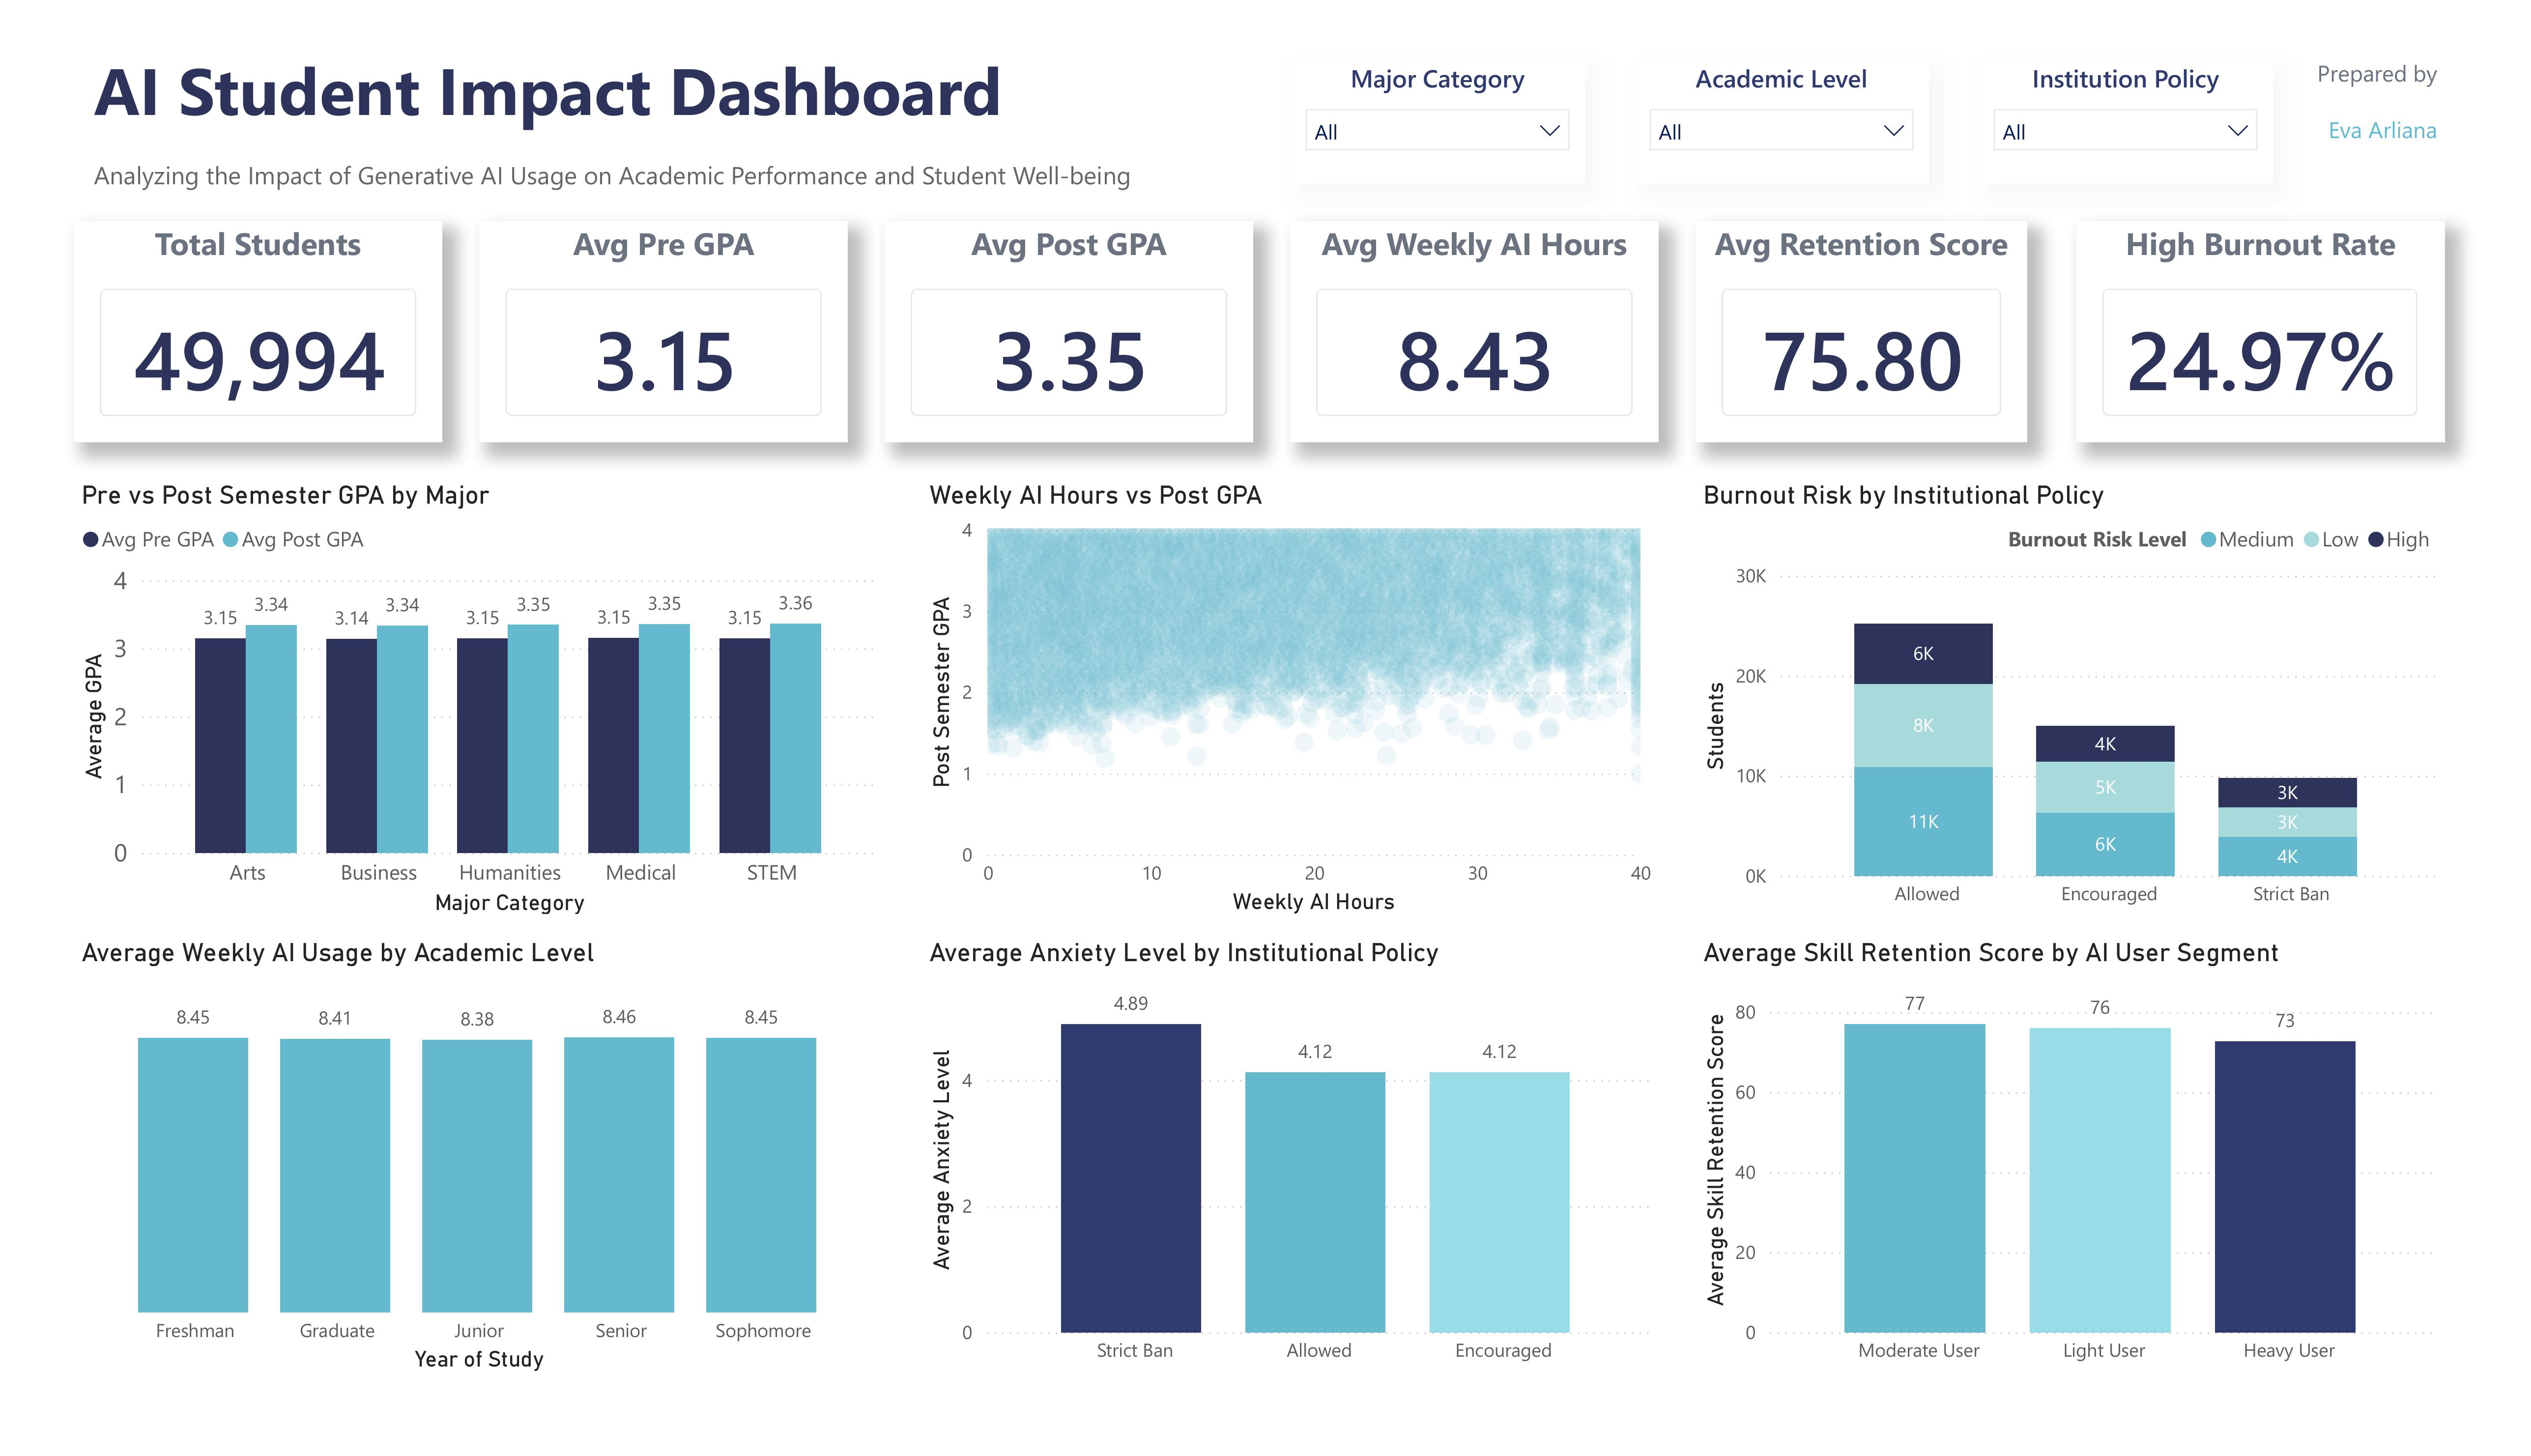

The dashboard page shown, as its layout file describes it:
{"tool":"powerbi","page":{"name":"Page 1","canvas":[1600,900],"ordinal":0},"visuals":[{"type":"textbox","box":[32,0,736,128],"z":0},{"type":"textbox","box":[1424,8,144,88],"z":1000},{"type":"cardVisual","title":"Total Students","fields":{"Data":["Student AI Impact.Total Students"]},"box":[24,120,240,144],"z":2000},{"type":"cardVisual","title":"Avg Pre GPA","fields":{"Data":["Student AI Impact.Avg Pre GPA"]},"box":[288,120,240,144],"z":3000},{"type":"cardVisual","title":"Avg Post GPA","fields":{"Data":["Student AI Impact.Avg Post GPA"]},"box":[552,120,240,144],"z":4000},{"type":"cardVisual","title":"Avg Weekly AI Hours","fields":{"Data":["Student AI Impact.Avg Weekly AI Hours"]},"box":[816,120,240,144],"z":5000},{"type":"cardVisual","title":"Avg Retention Score","fields":{"Data":["Student AI Impact.Avg Skill Retention"]},"box":[1080,120,216,144],"z":6000},{"type":"cardVisual","title":"High Burnout Rate","fields":{"Data":["Student AI Impact.High Burnout %"]},"box":[1328,120,240,144],"z":7000},{"type":"clusteredColumnChart","title":"Pre vs Post Semester GPA by Major","fields":{"Category":["Student AI Impact.Major_Category"],"Y":["Student AI Impact.Avg Pre GPA","Student AI Impact.Avg Post GPA"]},"box":[24,288,528,288],"z":8000},{"type":"scatterChart","title":"Weekly AI Hours vs Post GPA","fields":{"X":["Student AI Impact.Weekly_GenAI_Hours"],"Y":["Student AI Impact.Post_Semester_GPA"]},"box":[576,288,480,288],"z":9000},{"type":"columnChart","title":"Burnout Risk by Institutional Policy","fields":{"Category":["Student AI Impact.Policy_Display"],"Series":["Student AI Impact.Burnout_Risk_Level"],"Y":["Count(Student AI Impact.Student_ID)"]},"box":[1080,288,488,288],"z":10000},{"type":"clusteredColumnChart","title":"Average Weekly AI Usage by Academic Level","fields":{"Category":["Student AI Impact.Year_of_Study"],"Y":["Avg(Student AI Impact.Weekly_GenAI_Hours)"]},"box":[24,586,528,288],"z":11000},{"type":"clusteredColumnChart","title":"Average Anxiety Level by Institutional Policy","fields":{"Category":["Student AI Impact.Policy_Display"],"Y":["Avg(Student AI Impact.Anxiety_Level_During_Exams)"]},"box":[576,586,480,288],"z":12000},{"type":"clusteredColumnChart","title":"Average Skill Retention Score by AI User Segment","fields":{"Category":["Student AI Impact.AI_User_Segment"],"Y":["Avg(Student AI Impact.Skill_Retention_Score)"]},"box":[1080,586,488,288],"z":13000},{"type":"slicer","title":"Major Category","fields":{"Values":["Student AI Impact.Major_Category"]},"box":[816,16,192,80],"z":14000},{"type":"slicer","title":"Academic Level","fields":{"Values":["Student AI Impact.Year_of_Study"]},"box":[1040,16,192,80],"z":15000},{"type":"slicer","title":"Institution Policy","fields":{"Values":["Student AI Impact.Policy_Display"]},"box":[1264,16,192,80],"z":16000}]}

Visuals, with their boxes on the page's 1600x900 design canvas (x1, y1, x2, y2). These are canvas units, not pixel positions in the 2531x1456 screenshot, which may show the page scaled, cropped or inside an application window:
textbox: detection(32, 0, 768, 128)
textbox: detection(1424, 8, 1568, 96)
"Total Students" cardVisual: detection(24, 120, 264, 264)
"Avg Pre GPA" cardVisual: detection(288, 120, 528, 264)
"Avg Post GPA" cardVisual: detection(552, 120, 792, 264)
"Avg Weekly AI Hours" cardVisual: detection(816, 120, 1056, 264)
"Avg Retention Score" cardVisual: detection(1080, 120, 1296, 264)
"High Burnout Rate" cardVisual: detection(1328, 120, 1568, 264)
"Pre vs Post Semester GPA by Major" clusteredColumnChart: detection(24, 288, 552, 576)
"Weekly AI Hours vs Post GPA" scatterChart: detection(576, 288, 1056, 576)
"Burnout Risk by Institutional Policy" columnChart: detection(1080, 288, 1568, 576)
"Average Weekly AI Usage by Academic Level" clusteredColumnChart: detection(24, 586, 552, 874)
"Average Anxiety Level by Institutional Policy" clusteredColumnChart: detection(576, 586, 1056, 874)
"Average Skill Retention Score by AI User Segment" clusteredColumnChart: detection(1080, 586, 1568, 874)
"Major Category" slicer: detection(816, 16, 1008, 96)
"Academic Level" slicer: detection(1040, 16, 1232, 96)
"Institution Policy" slicer: detection(1264, 16, 1456, 96)
